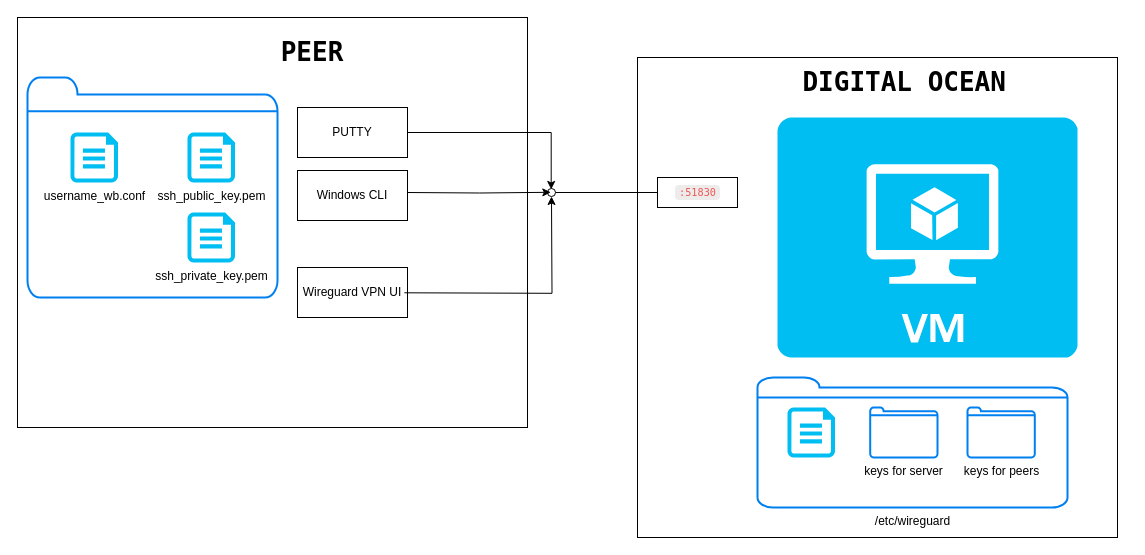
Image size: 1145x555. Some labels were removed from this diagram. The box of each missing label's shape, as (x1, y1, x2, y2) in pixels:
/etc/home/user/.ssh: (26, 76, 278, 298)
wg0.conf: (787, 407, 834, 457)
